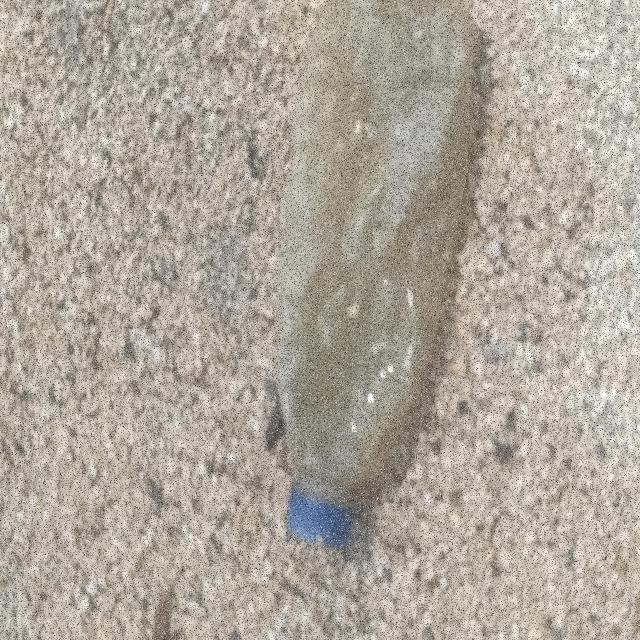plastic_waste: (280, 1, 473, 543)
